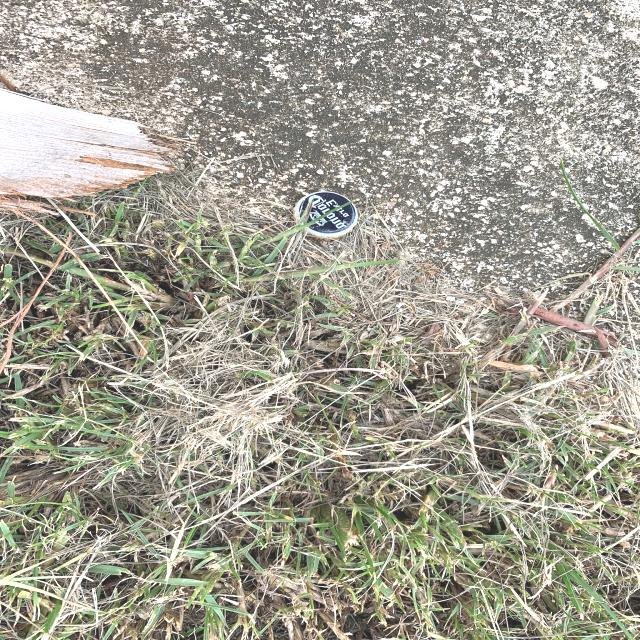Metal bottle cap: (293, 191, 358, 239)
